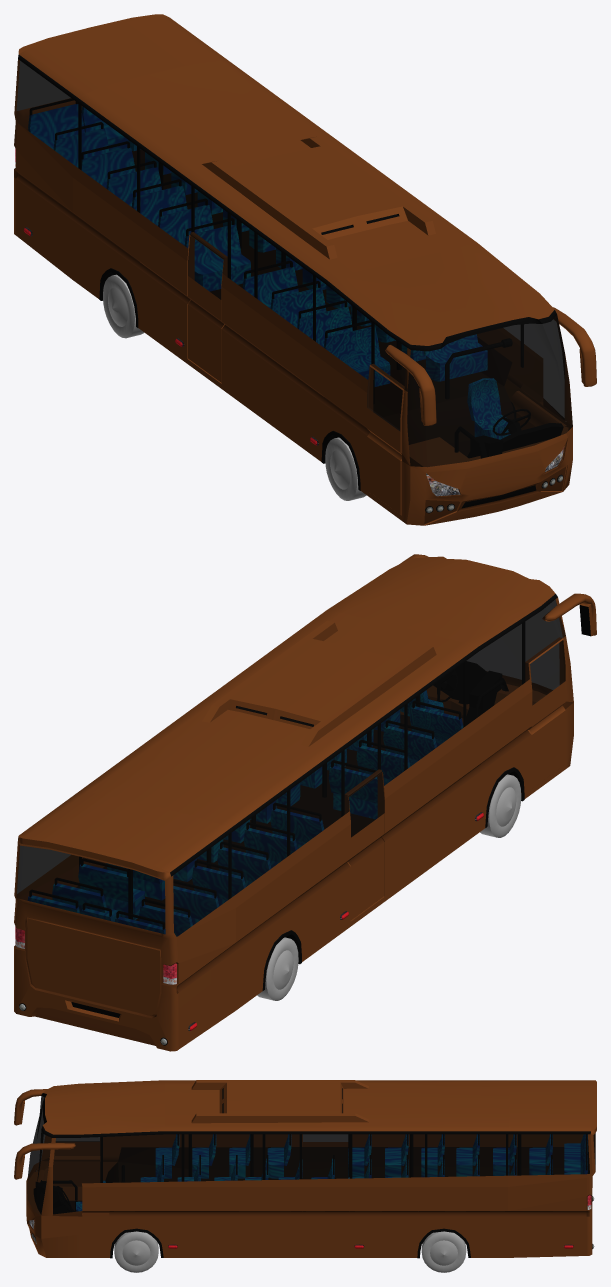
Rendered from Bus_06.fbx.
The picture shows the model from 3 angles, top to bottom: view 1: azimuth 30°, elevation 25°; view 2: azimuth 150°, elevation 25°; view 3: azimuth 270°, elevation 25°; orthographic projection. The views are drawn at different scales.
Parts seen in each view (by area): view 1: Bus_6_Body, Bus_6_Glass, Bus_6_Door, RR, FR, Glass; view 2: Bus_6_Body, Bus_6_Glass, Bus_6_Door, FR, RR, Glass; view 3: Bus_6_Body, Bus_6_Glass, Bus_6_Door, RL, FL.
Boxes of the visible parts, bbox=[...] form: Bus_6_Body: bbox=[14, 14, 596, 525]; Bus_6_Glass: bbox=[16, 60, 572, 466]; Bus_6_Door: bbox=[367, 364, 404, 515]; RR: bbox=[103, 274, 144, 338]; FR: bbox=[325, 437, 366, 500]; Glass: bbox=[367, 367, 402, 430]; Bus_6_Body: bbox=[14, 554, 596, 1051]; Bus_6_Glass: bbox=[16, 599, 565, 936]; Bus_6_Door: bbox=[526, 637, 565, 789]; FR: bbox=[480, 774, 521, 837]; RR: bbox=[257, 937, 298, 1000]; Glass: bbox=[530, 640, 565, 705]; Bus_6_Body: bbox=[14, 1080, 596, 1258]; Bus_6_Glass: bbox=[27, 1095, 595, 1215]; Bus_6_Door: bbox=[53, 1137, 100, 1186]; RL: bbox=[421, 1231, 466, 1272]; FL: bbox=[114, 1231, 158, 1272].
Size of the model in its own units: 258 by 303 by 1075.
